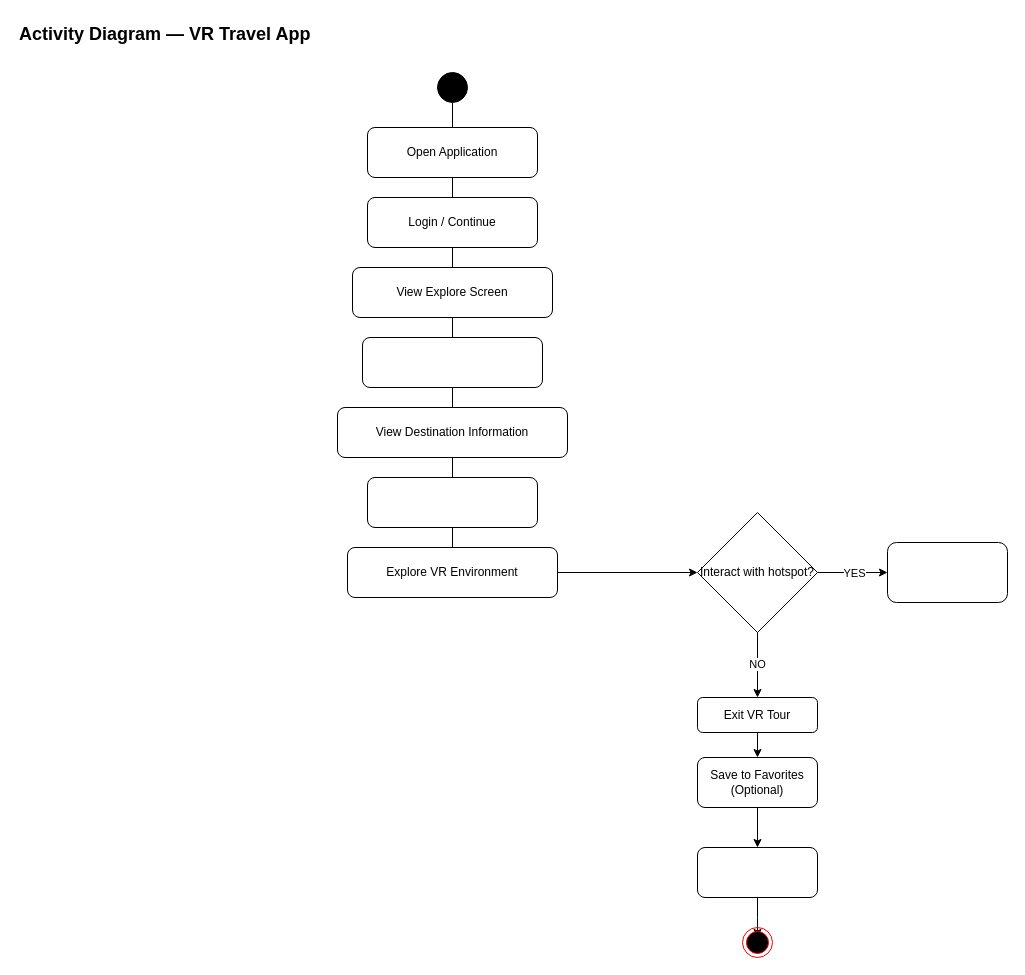
This 1025x975 diagram has some shape labels left out. The shapes that lost their labels are listed below. From the top down, each one's centre as x and y in pixels, then its label:
point 452,362: Select Destination
point 452,502: Start VR Tour
point 947,572: View Information/ Listen to audio
point 757,872: View in Profile/ History
